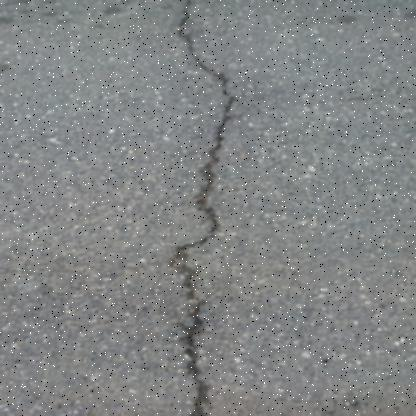Cracks: (158, 0, 255, 415)
